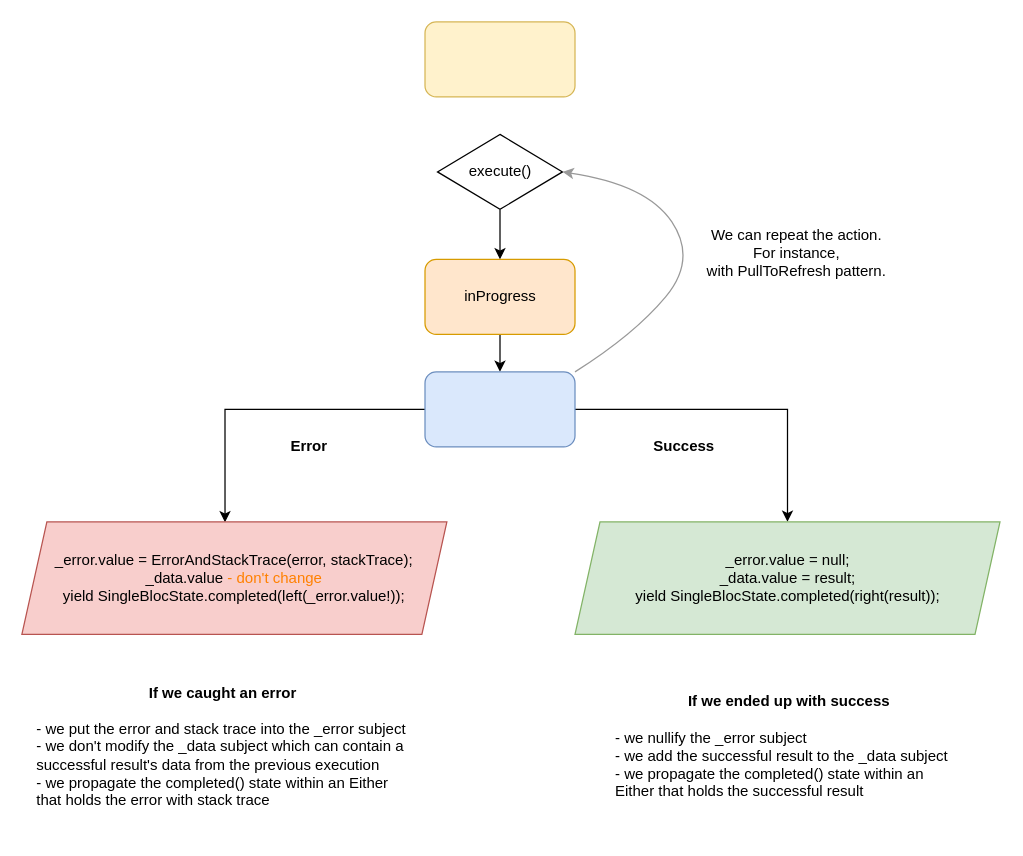
The diagram is 1023 pixels wide and 856 high, and some of its shapes have lost their labels. The shapes that lost their labels are listed below. From the top down, each one's centre as x and y in pixels, then its label:
pixel 499 59: idle
pixel 499 409: completed
